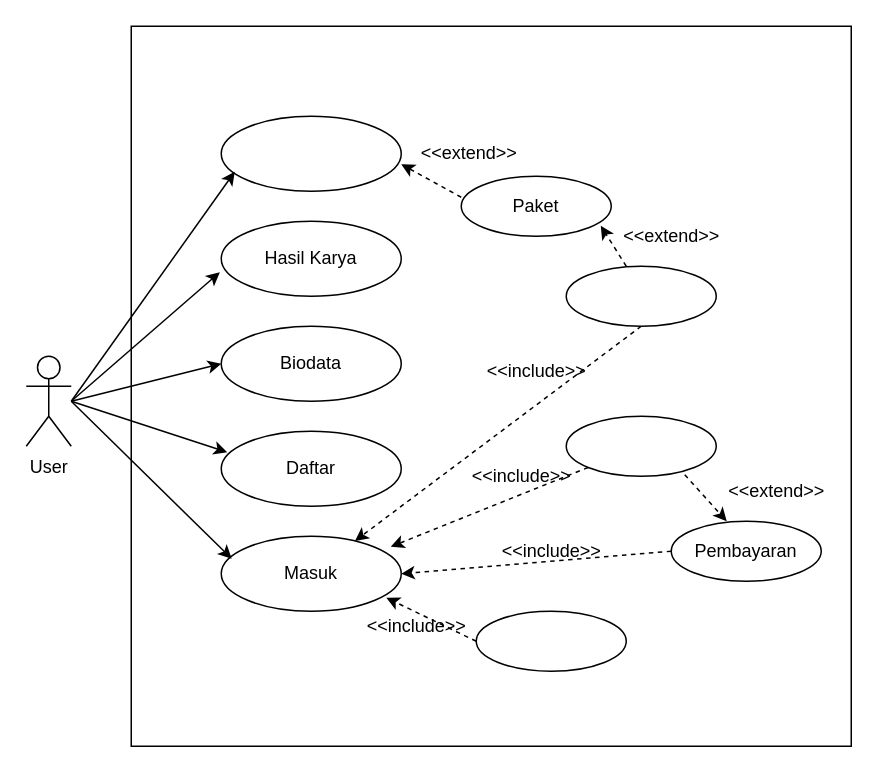
The diagram is 878 pixels wide and 773 high, and some of its shapes have lost their labels. The centre of each missing label's shape, as x and y in pixels:
"Beranda" belongs at (310,153).
"Daftar Booking" belongs at (640,295).
"Keluar" belongs at (550,640).
"Riwayat Booking" belongs at (640,445).
